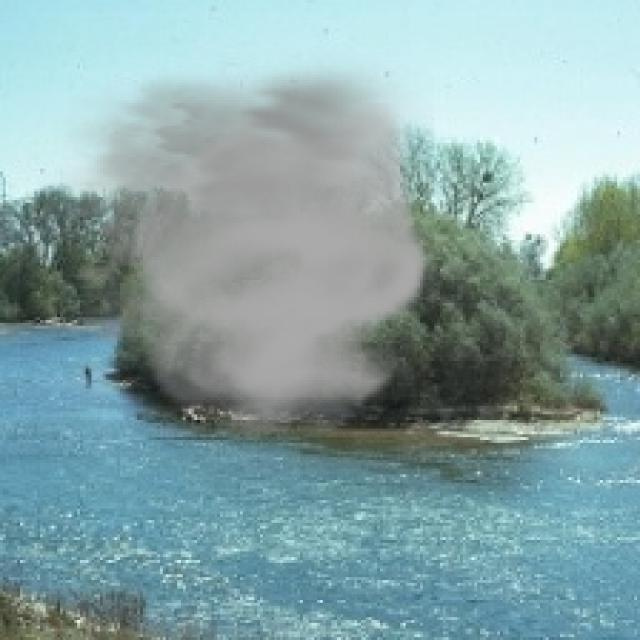smoke: (26, 51, 434, 440)
